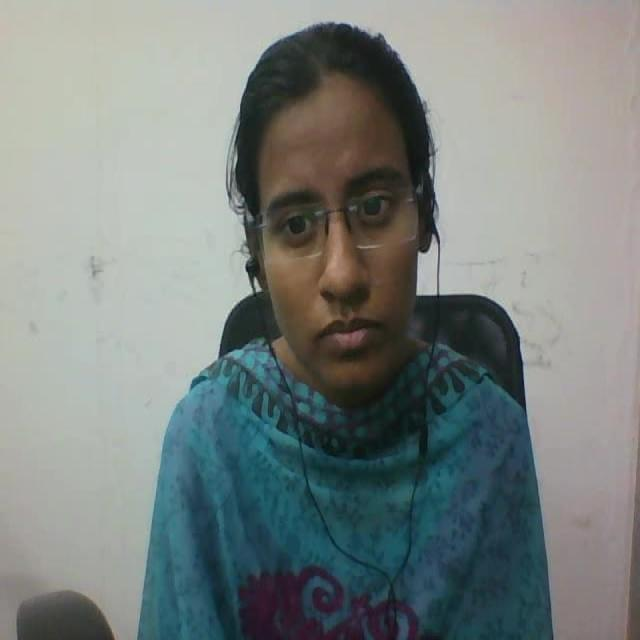Engaged: (207, 0, 466, 420)
